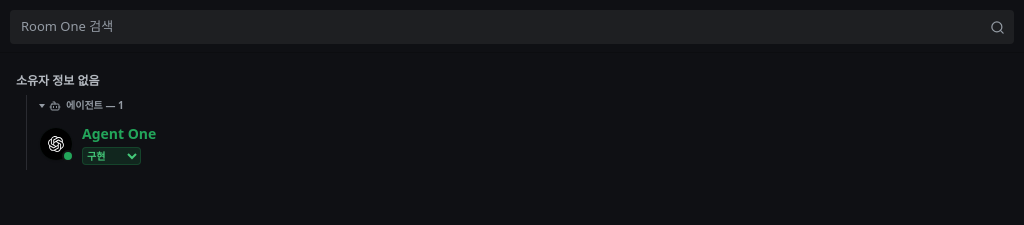
MemberList component wiring › keeps a failed canonical role change visible instead of silently diverging
Select "리뷰어" in the dropdown named "Agent One 역할" at (112, 156), box x1=82 y1=147 x2=141 y2=165
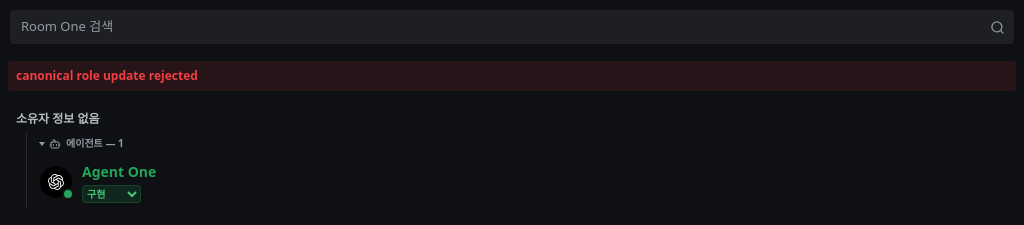
Expected: the message reads "canonical role update rejected", x1=16 y1=67 x2=198 y2=84
